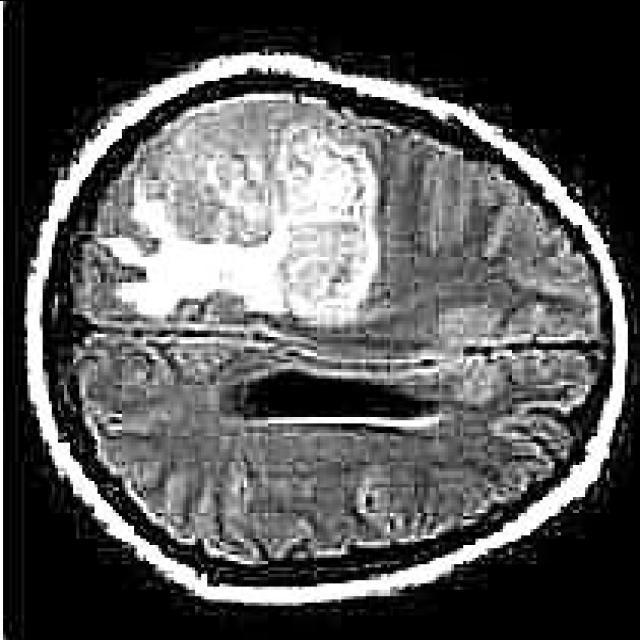tumor: (96, 115, 389, 328)
